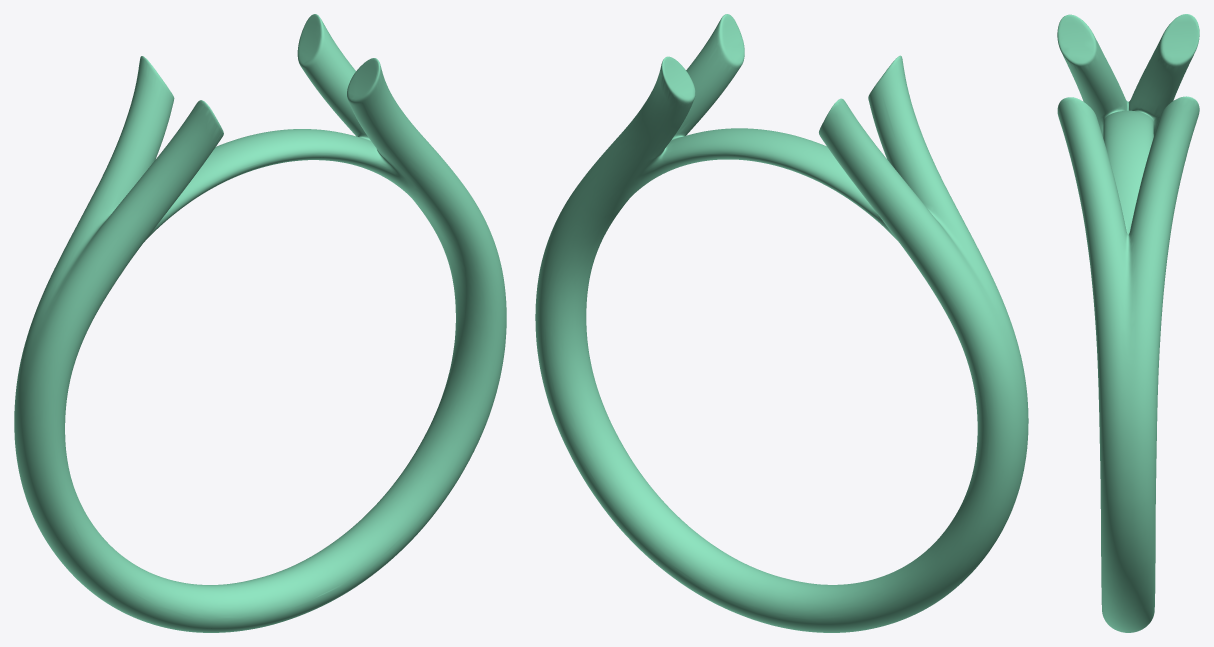
The picture shows the model from 3 angles, left to right: view 1: azimuth 30°, elevation 25°; view 2: azimuth 150°, elevation 25°; view 3: azimuth 270°, elevation 25°; orthographic projection. The views are drawn at different scales.
Visible parts, largest first — view 1: Metal02; view 2: Metal02; view 3: Metal02.
Part boxes in pixels (box(x1,y1,x2,y2)): Metal02: box(14, 14, 506, 632); Metal02: box(535, 14, 1028, 632); Metal02: box(1057, 14, 1199, 632).
Bounding box in the file's own units: 20.89 × 23.43 × 5.47.
